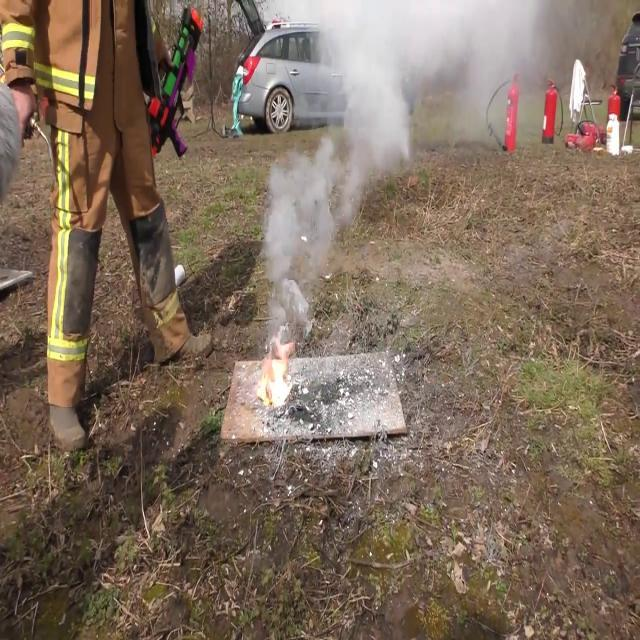Fire: (257, 346, 295, 409)
Smoke: (288, 0, 556, 180), (248, 133, 344, 344)
